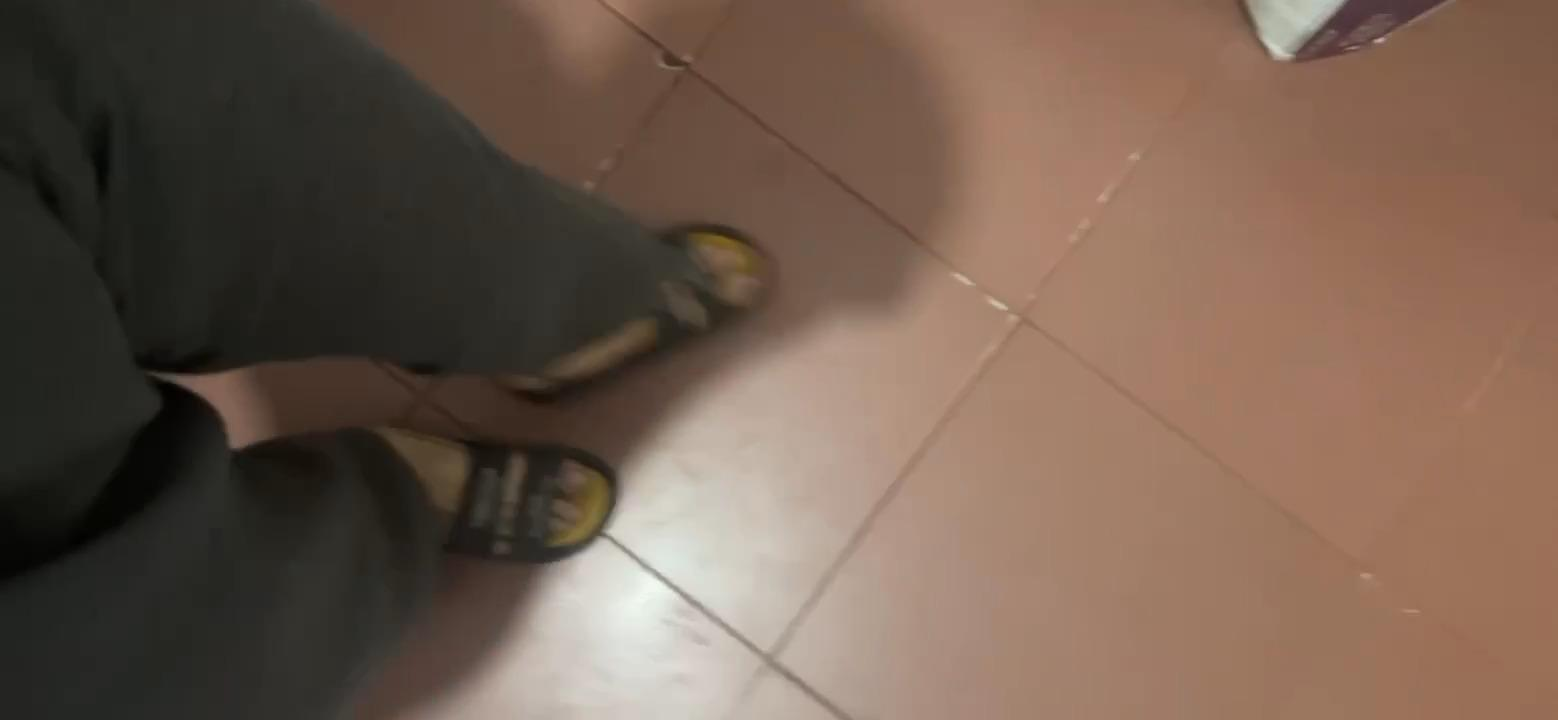no-boot: (499, 207, 789, 397), (355, 413, 635, 577)
